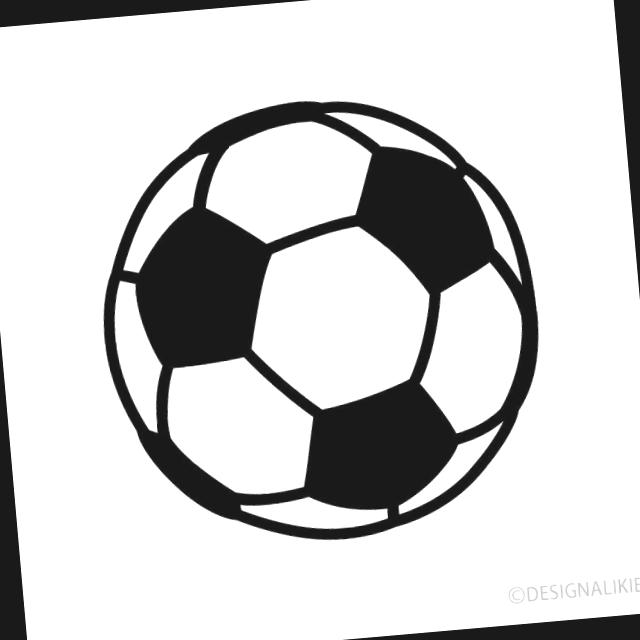Soccer Ball: (88, 78, 556, 559)
